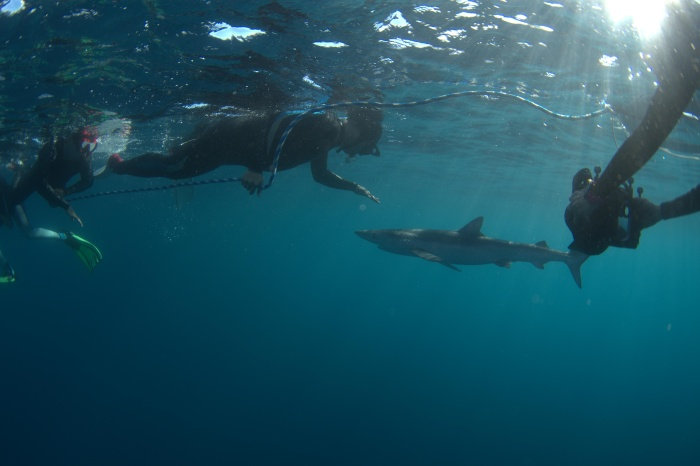Azul: (335, 210, 624, 304)
